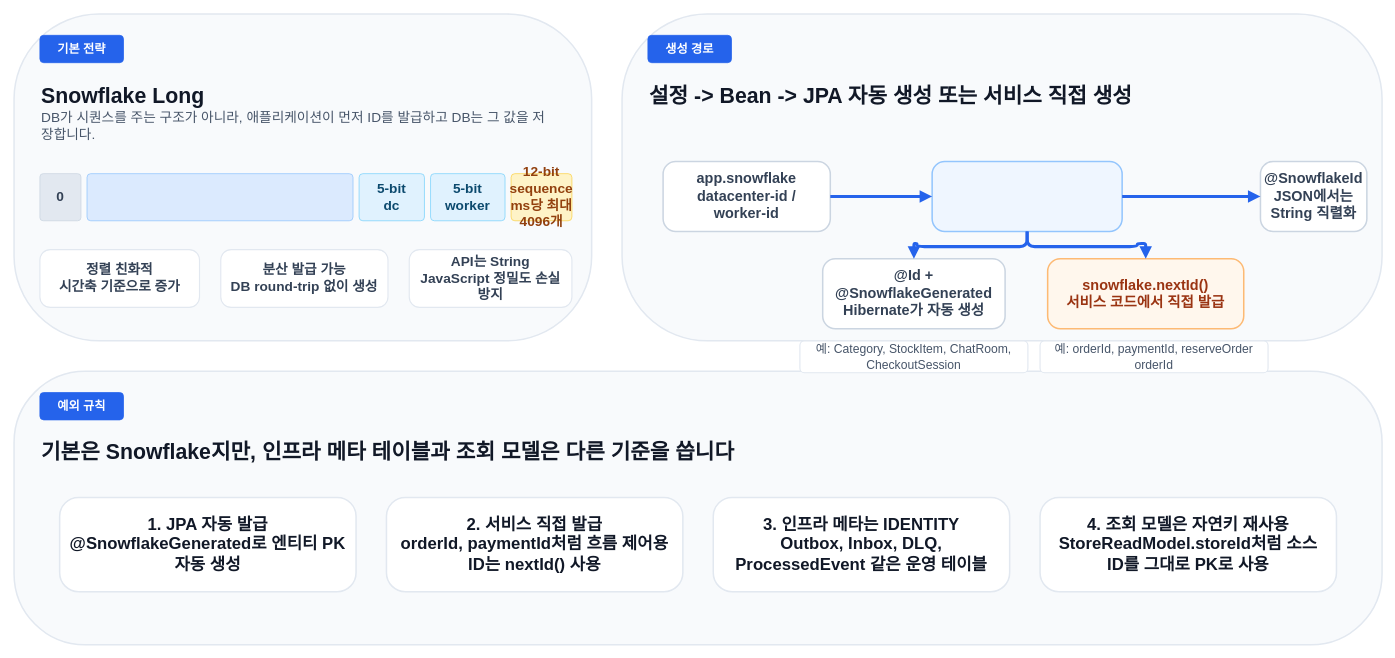
This 1395x658 diagram has some shape labels left out. The shapes that lost their labels are listed below. From the top down, each one's centre as x and y in pixels, then its label:
At (219,197): "41-bit timestamp custom epoch = 2024-01-01".
At (1027,196): "SnowflakeAutoConfiguration Snowflake Bean 초기화".
